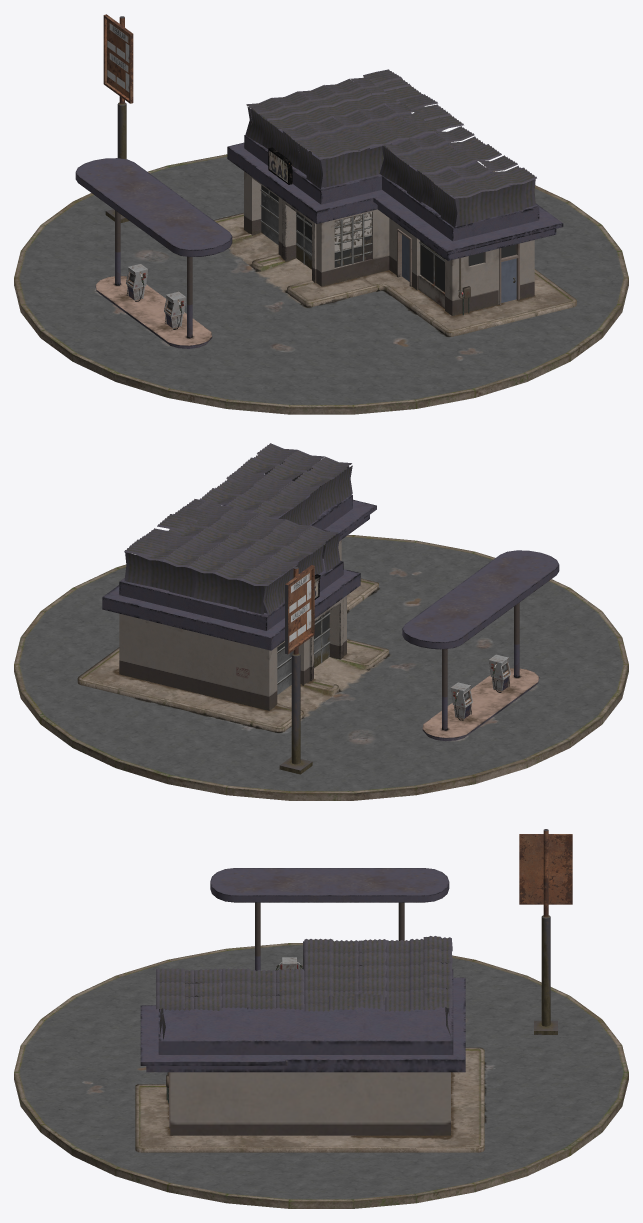
3 renders of one model, top to bottom at view 1: azimuth 30°, elevation 25°; view 2: azimuth 150°, elevation 25°; view 3: azimuth 270°, elevation 25°, orthographic.
Visible parts, largest first — view 1: gas-station; view 2: gas-station; view 3: gas-station.
Boxes of the visible parts, box(x1,y1,x2,y2) form: gas-station: box(14, 14, 628, 414); gas-station: box(14, 443, 628, 800); gas-station: box(14, 829, 628, 1208).
Size of the model in its own units: 29.84 by 11.15 by 30.
Materials: 8 (8 with a texture image).
